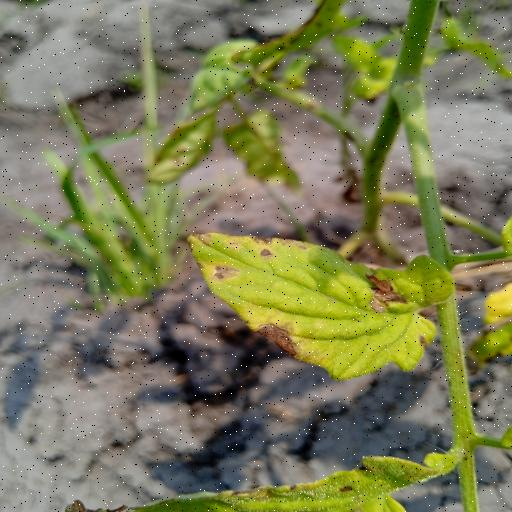Tomato_Brown_Spots: (183, 224, 447, 384)
